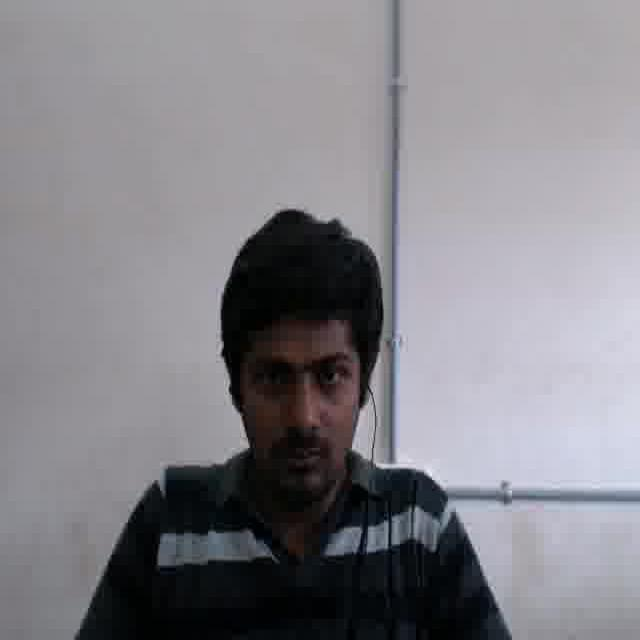Engaged: (240, 312, 357, 499)
